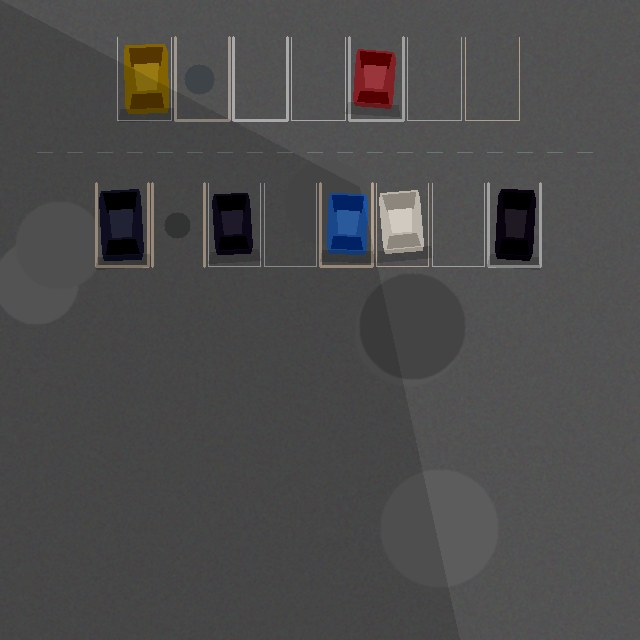space-empty: (175, 37, 229, 120), (233, 37, 287, 120), (291, 37, 345, 120), (407, 37, 461, 120), (465, 37, 519, 120), (152, 183, 204, 266), (264, 183, 316, 266), (432, 183, 484, 266)
space-occupied: (117, 37, 171, 120), (349, 37, 403, 120), (96, 183, 148, 266), (208, 183, 260, 266), (320, 183, 372, 266), (376, 183, 428, 266), (488, 183, 540, 266)
